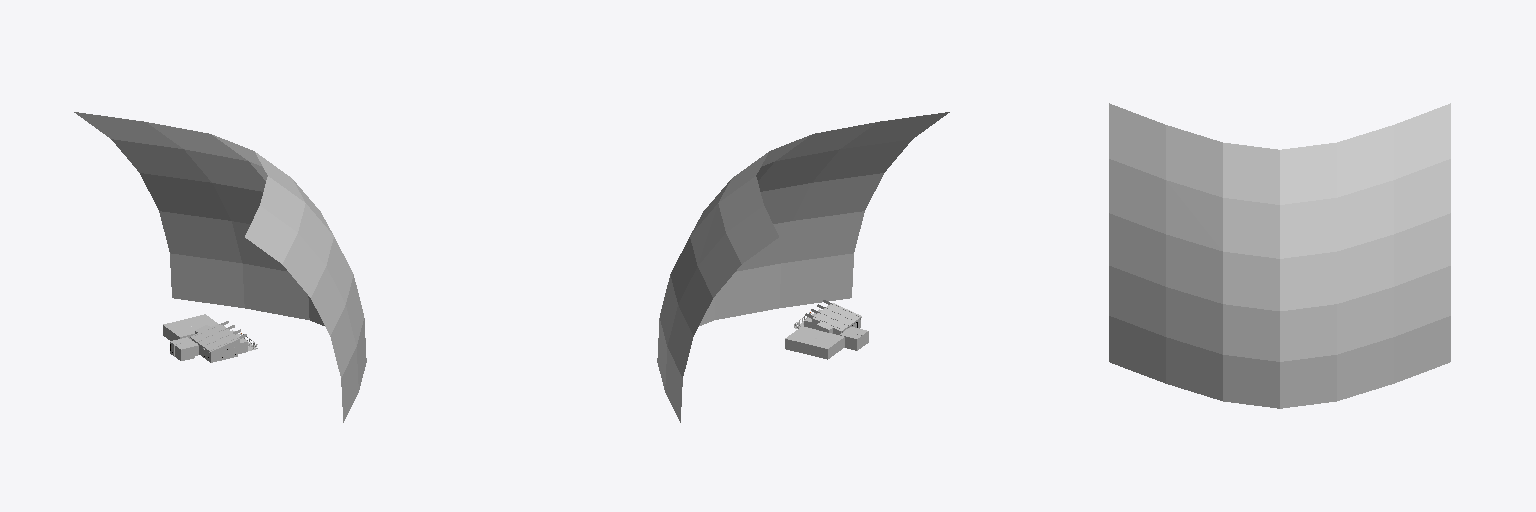
3 renders of one model, left to right at view 1: azimuth 30°, elevation 25°; view 2: azimuth 150°, elevation 25°; view 3: azimuth 270°, elevation 25°, orthographic.
Visible parts, largest first — view 1: Sky, Walls_Room.010; view 2: Sky, Walls_Room.010; view 3: Sky.
Boxes of the visible parts, x1=… form: Sky: x1=74, y1=112, x2=366, y2=422; Walls_Room.010: x1=163, y1=314, x2=247, y2=362; Sky: x1=657, y1=112, x2=949, y2=422; Walls_Room.010: x1=785, y1=303, x2=868, y2=359; Sky: x1=1109, y1=103, x2=1450, y2=408.
Bounding box in the file's own units: 45.97 × 47.59 × 70.11.
23 materials, 17 textured.